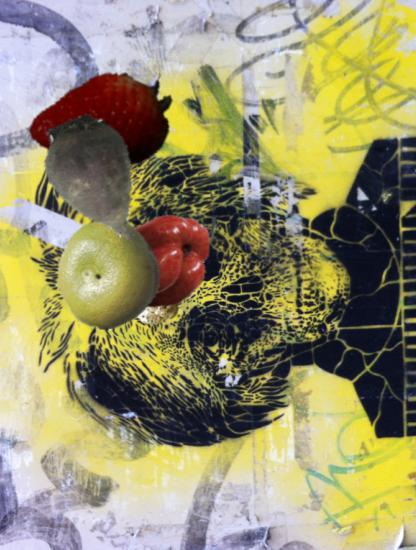Beetroot: (24, 112, 167, 255)
Cauliflower: (128, 274, 180, 326)
Pepper: (108, 210, 210, 312)
Pomelo: (53, 218, 165, 330)
Strawberry: (40, 48, 173, 181)
